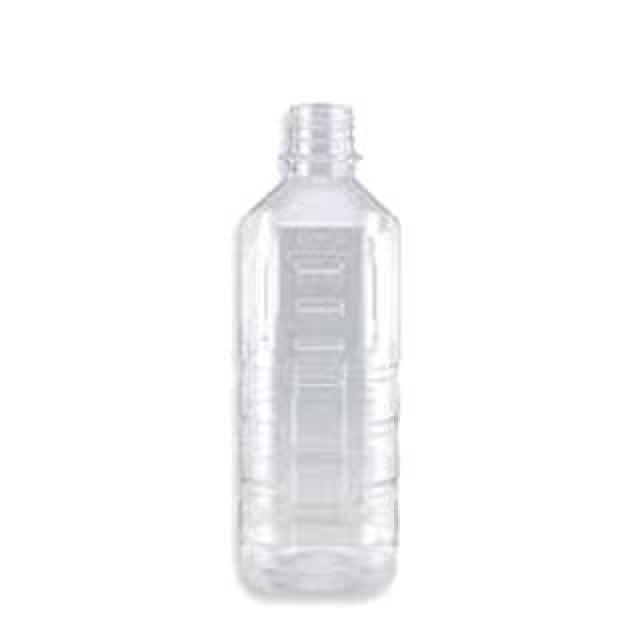Pet_Bottle: (231, 100, 409, 596)
